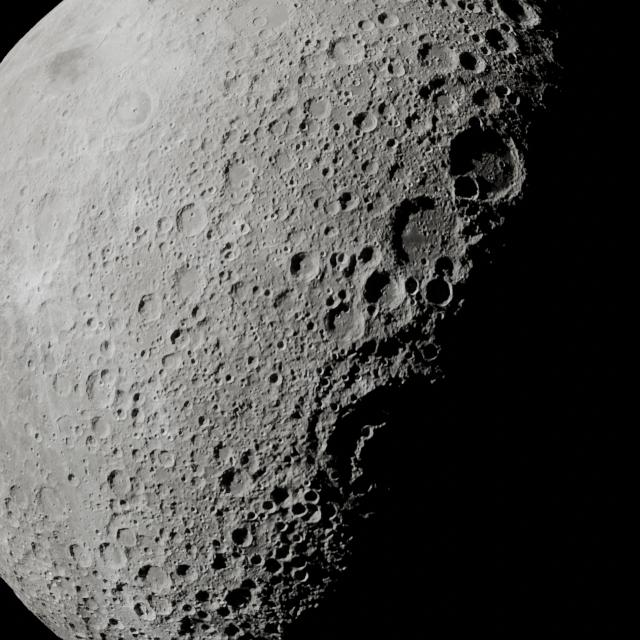crater: (449, 117, 518, 199), (383, 196, 455, 265), (358, 269, 402, 309), (415, 36, 454, 72), (138, 562, 175, 592), (324, 305, 357, 337), (216, 468, 252, 496), (423, 276, 452, 308), (288, 248, 314, 282), (105, 468, 133, 497), (224, 586, 255, 612), (451, 173, 478, 202), (482, 31, 512, 57), (453, 52, 485, 76), (225, 526, 256, 550), (269, 482, 294, 508), (352, 114, 378, 134), (373, 11, 402, 27), (291, 563, 311, 586), (290, 500, 312, 520), (173, 564, 195, 584), (247, 549, 265, 573), (220, 621, 246, 637), (361, 156, 380, 177), (193, 587, 215, 605), (272, 540, 291, 560), (240, 448, 254, 474), (339, 190, 357, 210), (132, 601, 151, 617), (470, 29, 486, 45), (304, 489, 318, 505), (180, 604, 196, 615)
